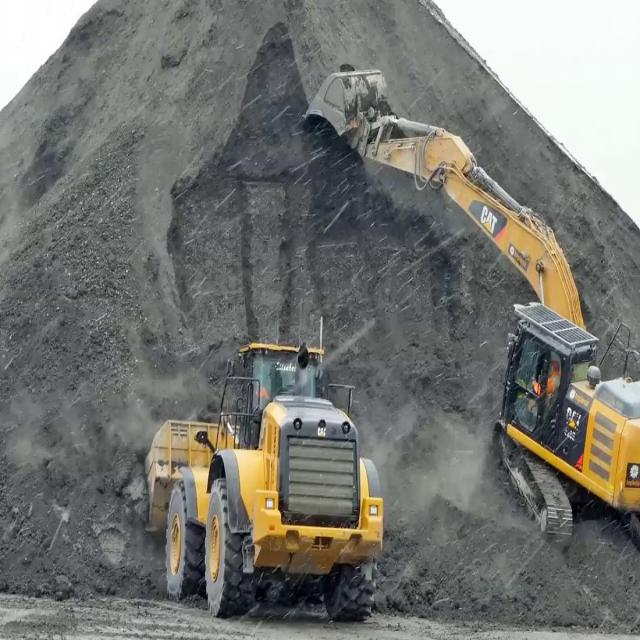Excavator: (297, 60, 639, 548)
Loader: (140, 333, 383, 625)
